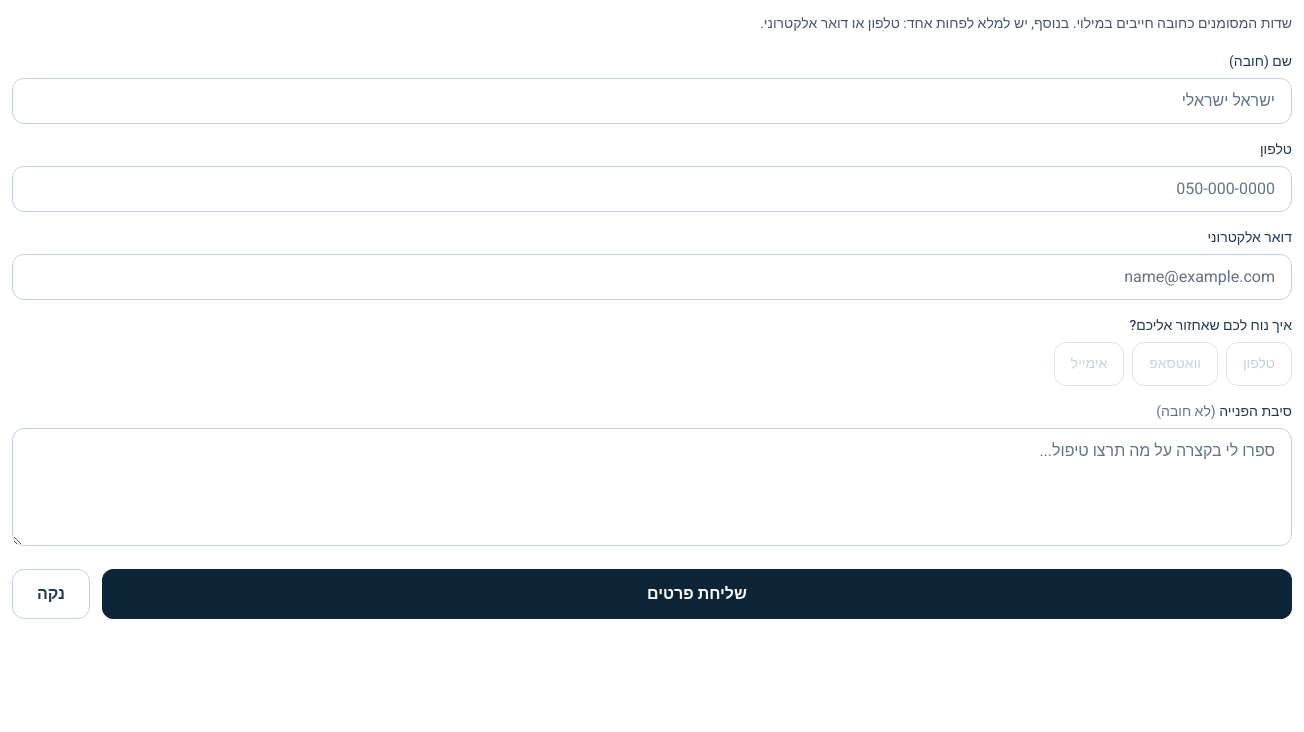
Test: ContactForm › connects validation errors to fields and focuses the first invalid field
The image size is (1304, 732).
Click the button "שליחת פרטים": (697, 594) [102,569,1292,619]
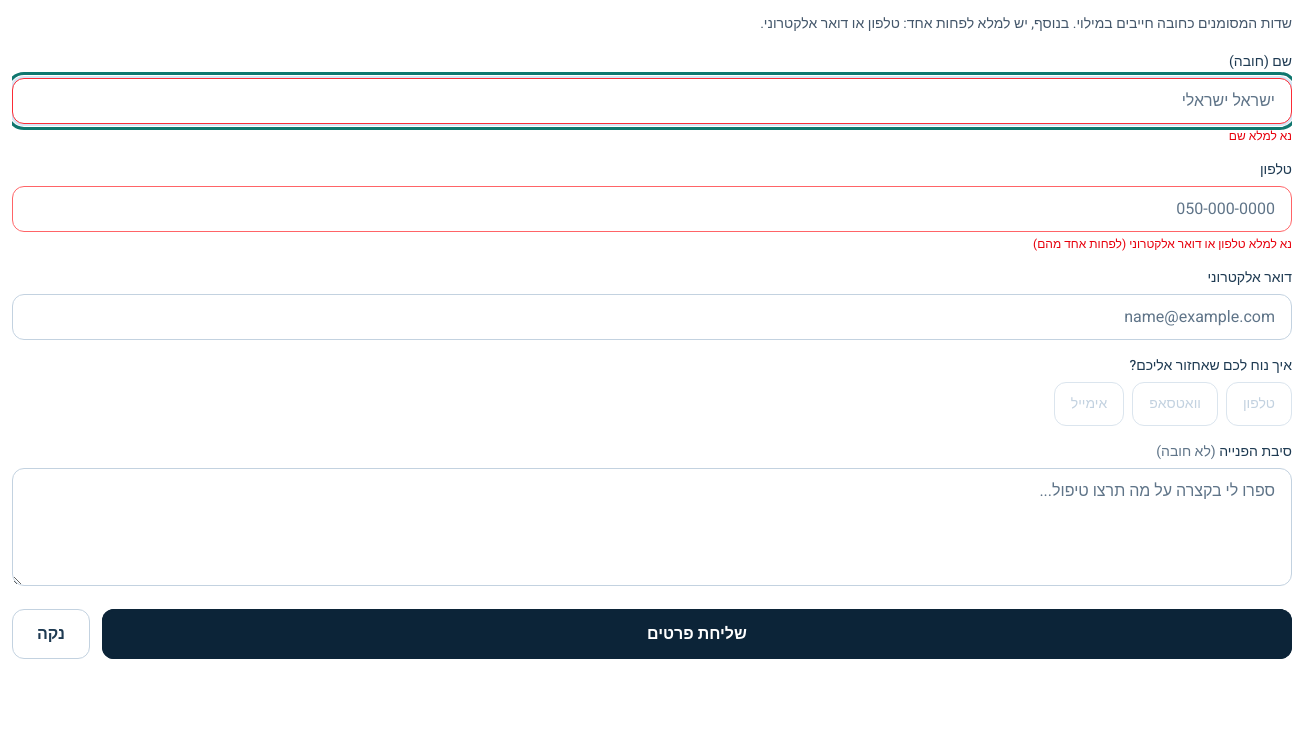
Check: the number of messages is 2, box [1229,127,1292,145]; [1033,235,1292,253]
